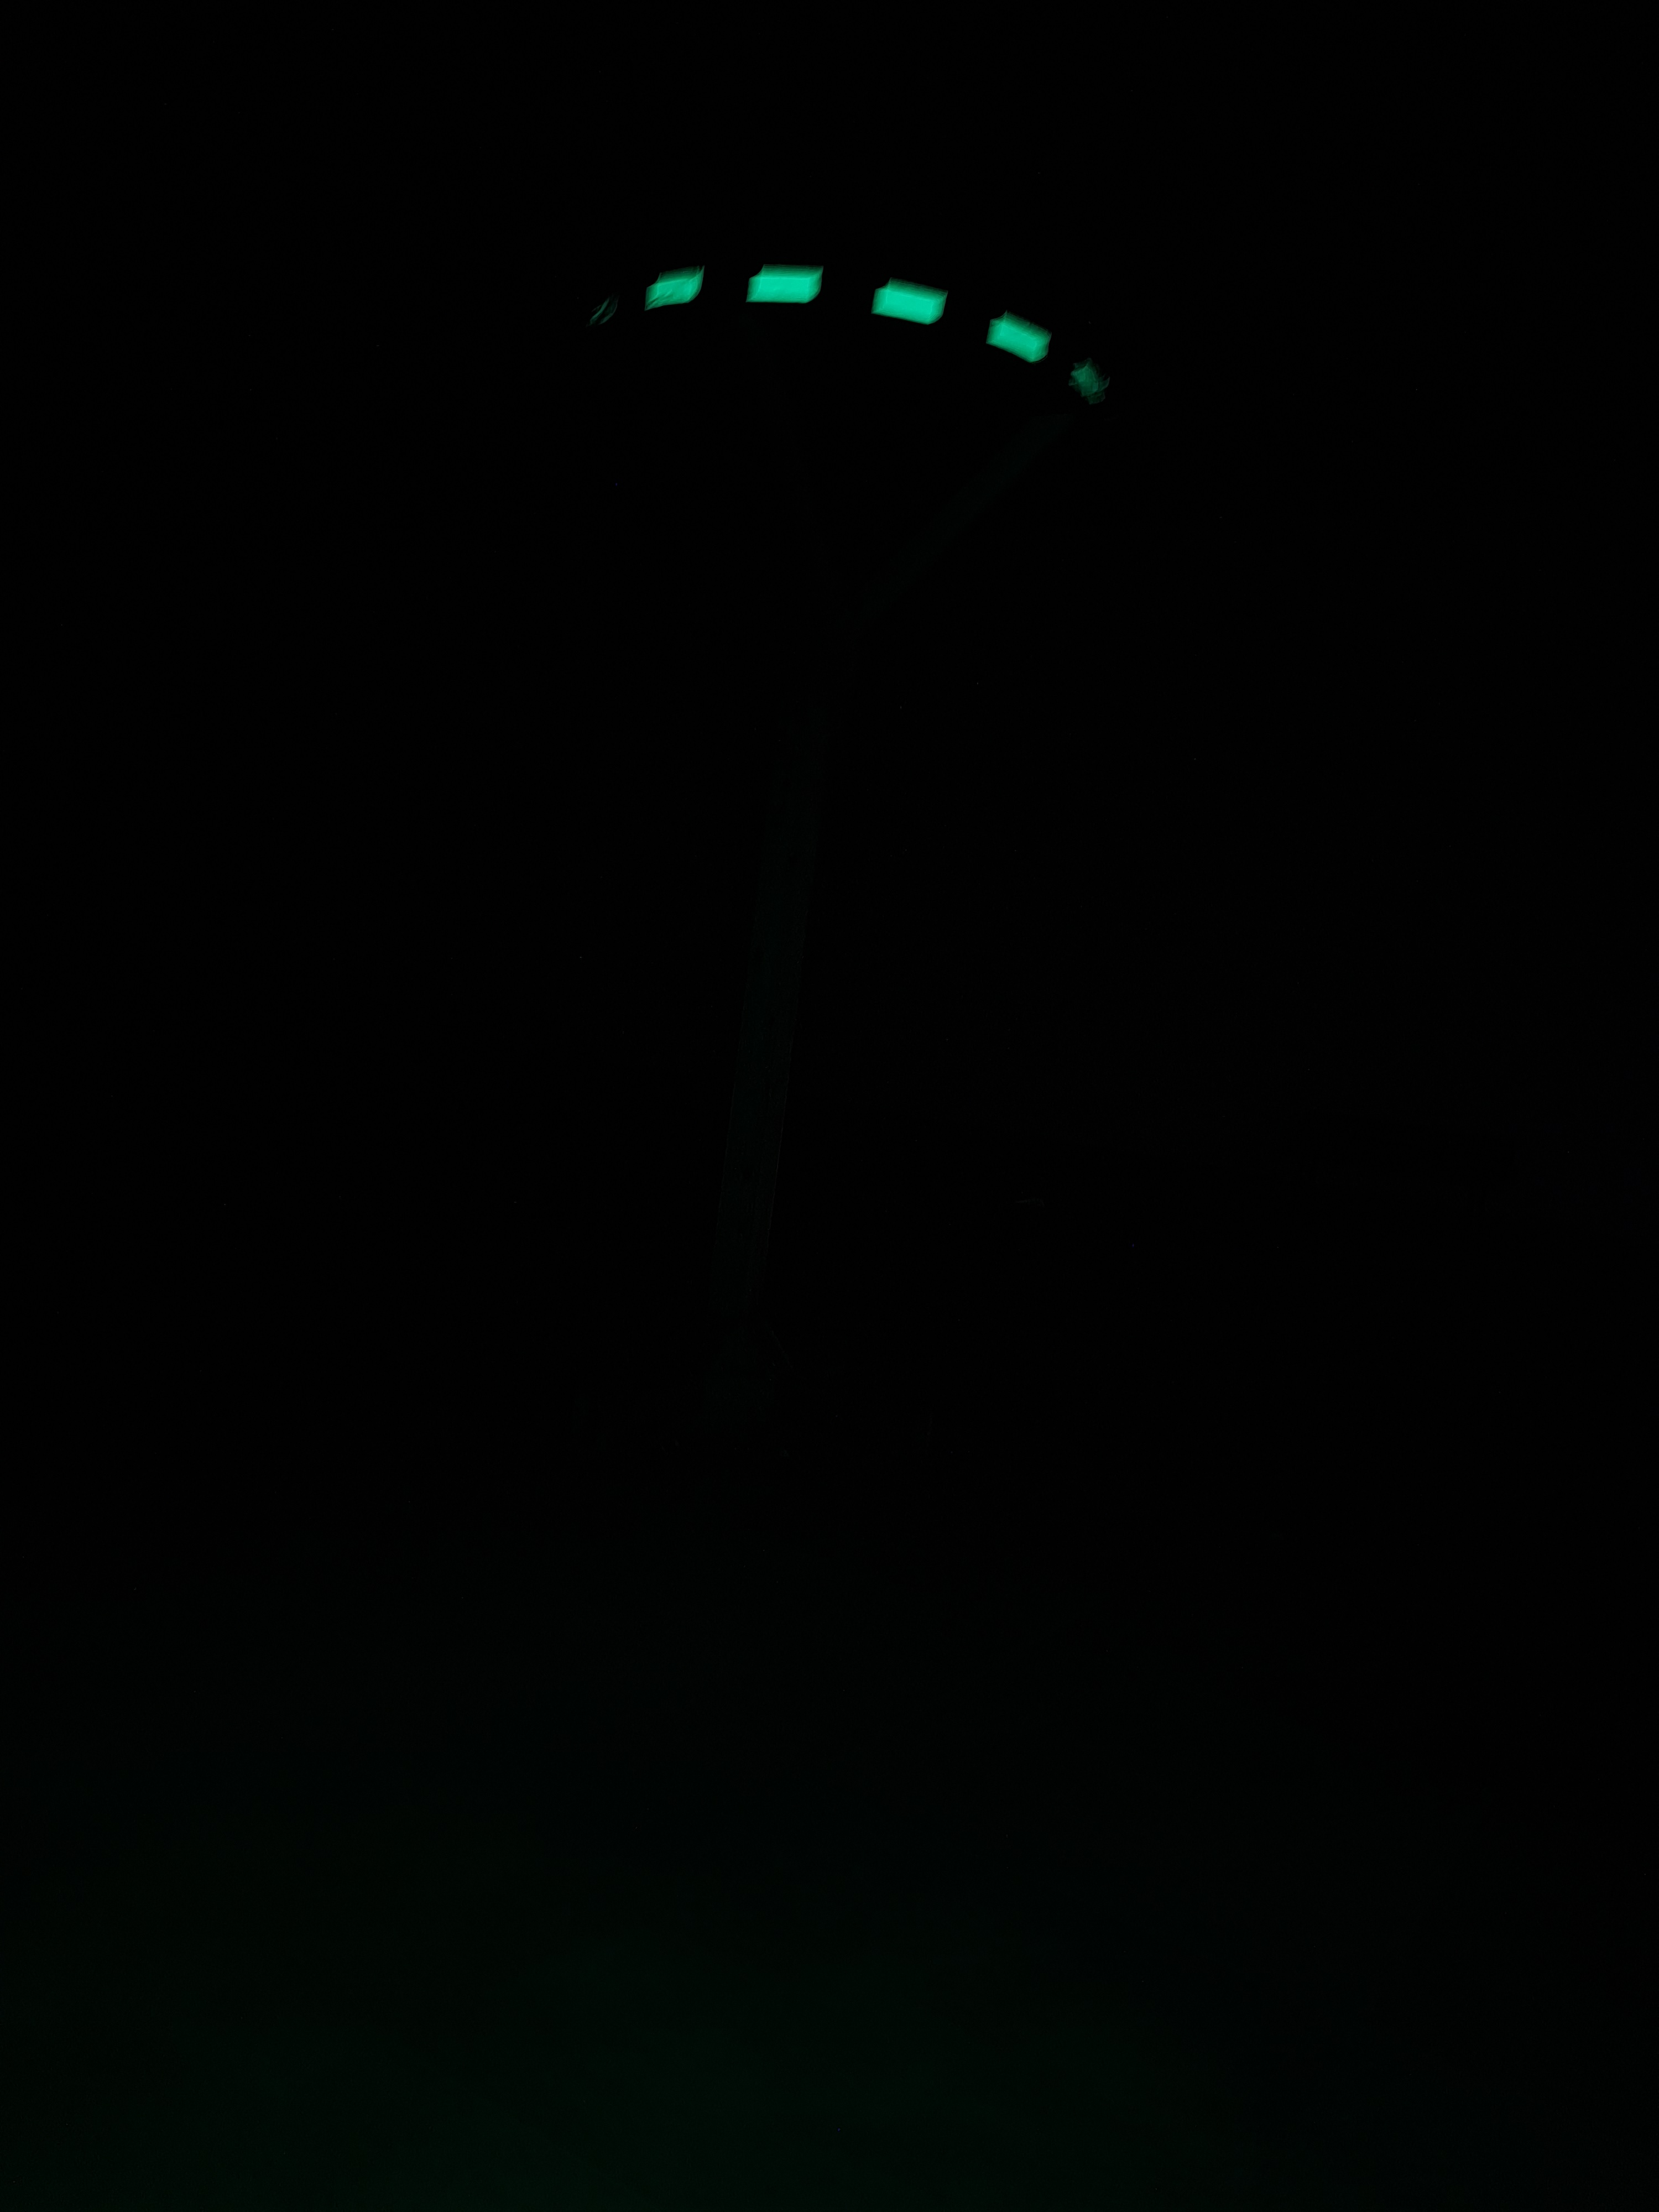hoop: (579, 251, 1114, 420)
